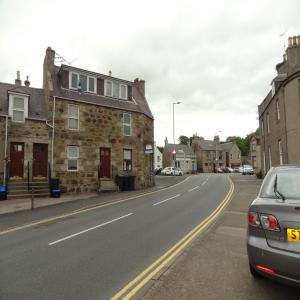Vehicle-registration-plate: (287, 230, 300, 242)
